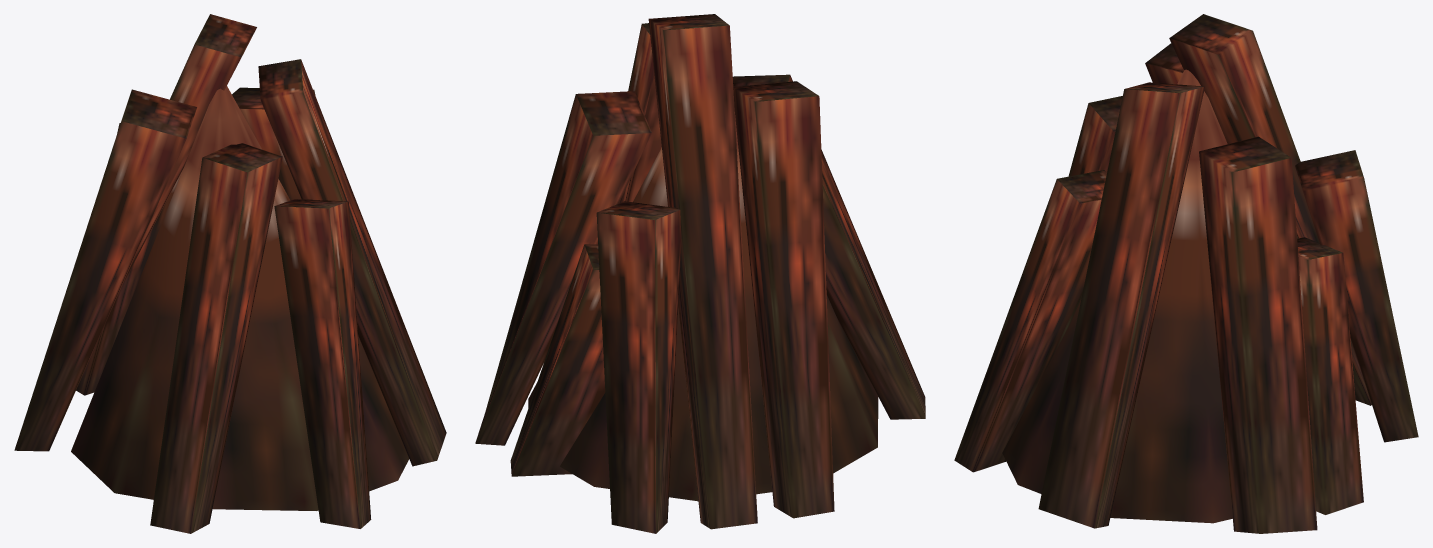
The model's file is S_Build_Shiny006.FBX.
3 renders of one model, left to right at view 1: azimuth 30°, elevation 25°; view 2: azimuth 150°, elevation 25°; view 3: azimuth 270°, elevation 25°, orthographic. The views are drawn at different scales.
Visible parts, largest first — view 1: S_Build_Shiny006; view 2: S_Build_Shiny006; view 3: S_Build_Shiny006.
Boxes of the visible parts, box(x1,y1,x2,y2) form: S_Build_Shiny006: box(14, 14, 446, 533); S_Build_Shiny006: box(475, 14, 925, 533); S_Build_Shiny006: box(954, 14, 1418, 533).
Size of the model in its own units: 85.72 by 95.93 by 98.15.
